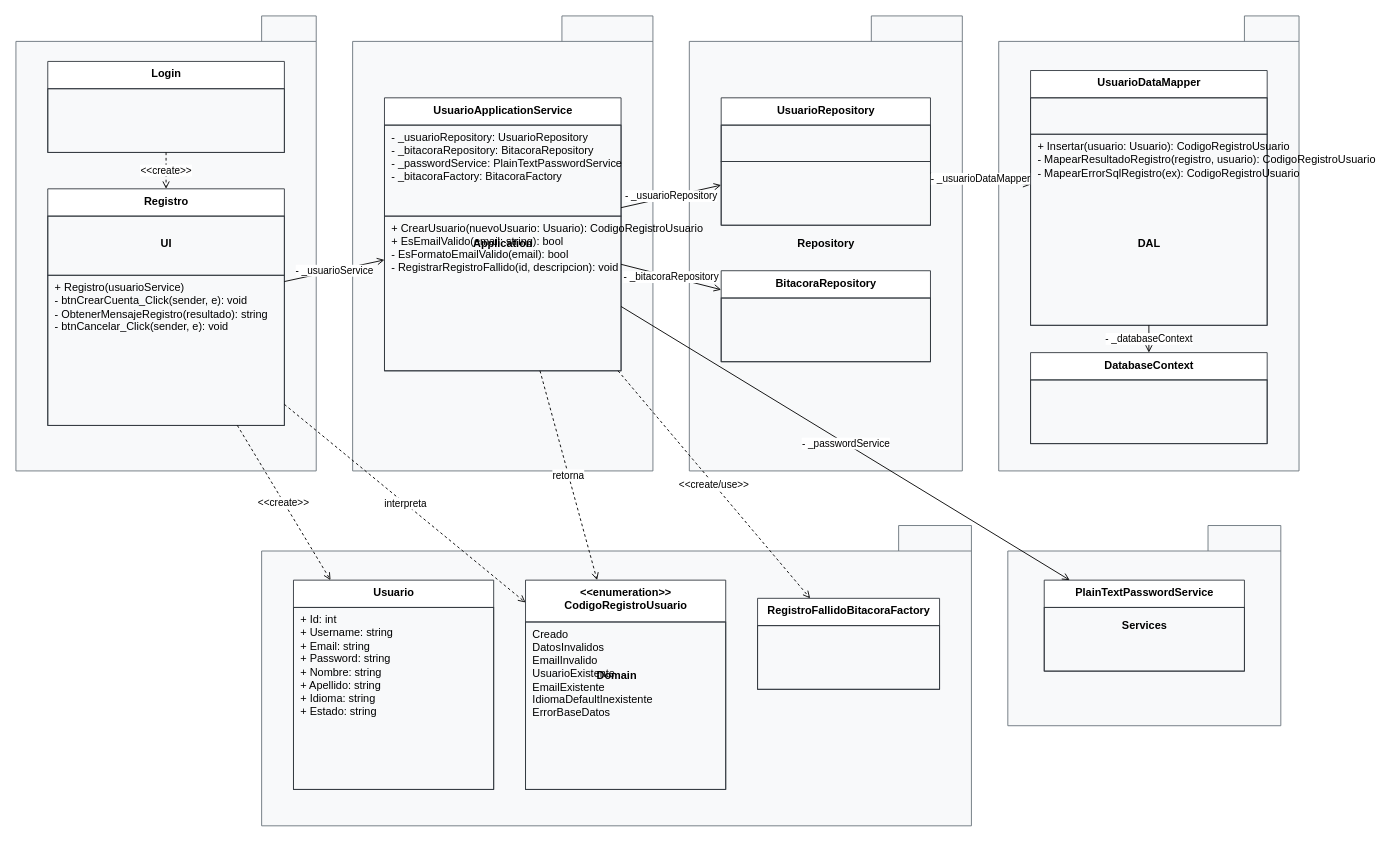
This 1392x842 diagram has some shape labels left out. Each missing label, with the centre of its shape:
"# CrearEvento(): IBitacoraEvento" belongs at pixel 848 657.
"+ Abrir(): void + Cerrar(): void + Leer(...): DataTable" belongs at pixel 1148 411.
"+ Crear(usuario: Usuario): CodigoRegistroUsuario" belongs at pixel 825 193.
"+ Hash(password): string" belongs at pixel 1143 639.
"+ Registrar(evento: IBitacoraEvento): bool" belongs at pixel 825 329.
"- _databaseContext: DatabaseContext" belongs at pixel 1148 115.
"- _usuarioDataMapper: UsuarioDataMapper" belongs at pixel 825 143.
"- _usuarioService: UsuarioApplicationService + UsuarioRegistrado: string" belongs at pixel 165 245.
"- btnRegistrar_Click(sender, e): void" belongs at pixel 165 120.
